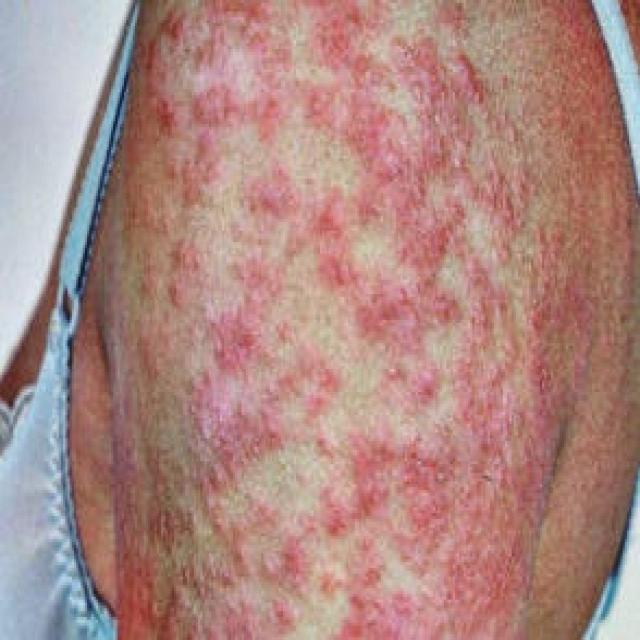Warts-Molluscum-and-other-Viral-Infections: (154, 14, 533, 623)
